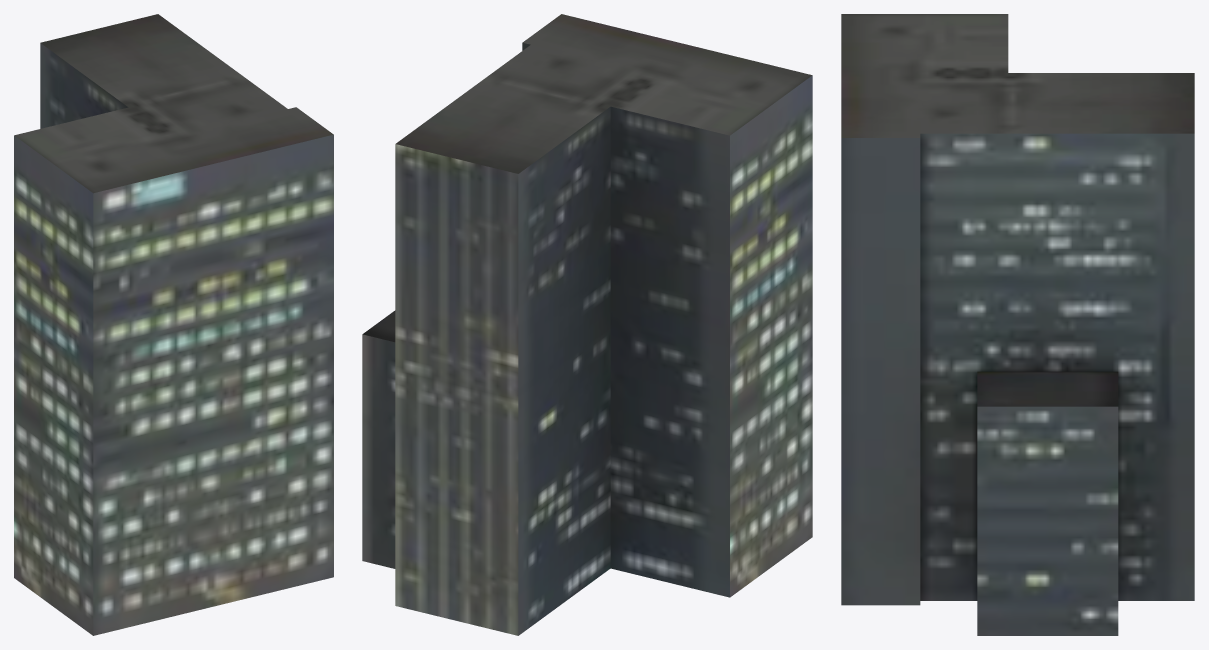
The model's file is Cube.001_Background_Night_Buildings_0.010.glb.
The picture shows the model from 3 angles, left to right: view 1: azimuth 30°, elevation 25°; view 2: azimuth 150°, elevation 25°; view 3: azimuth 270°, elevation 25°; orthographic projection. The views are drawn at different scales.
Parts seen in each view (by area): view 1: Cube.001_Background_Night_Buildings_0.010; view 2: Cube.001_Background_Night_Buildings_0.010; view 3: Cube.001_Background_Night_Buildings_0.010.
Part boxes in pixels (<box>): Cube.001_Background_Night_Buildings_0.010: <box>14,14,333,635</box>; Cube.001_Background_Night_Buildings_0.010: <box>362,14,812,635</box>; Cube.001_Background_Night_Buildings_0.010: <box>841,14,1194,635</box>.
Size of the model in its own units: 20.38 by 28.72 by 19.7.
Materials: 1 (1 with a texture image).
